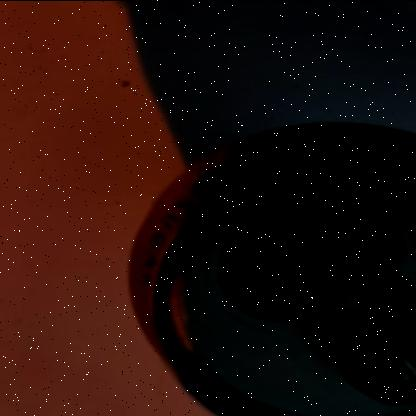Can: (128, 120, 416, 416)
